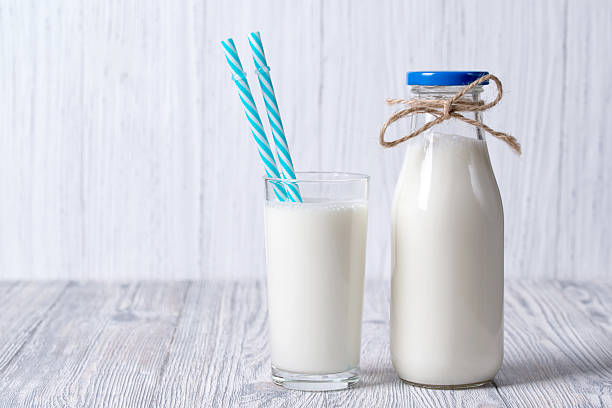glass of milk: (391, 125, 506, 387), (263, 173, 375, 393)
